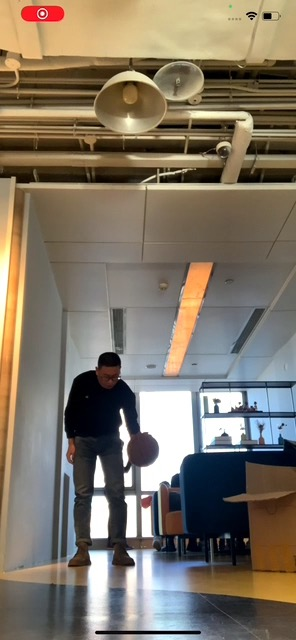ball: (126, 433, 159, 466)
